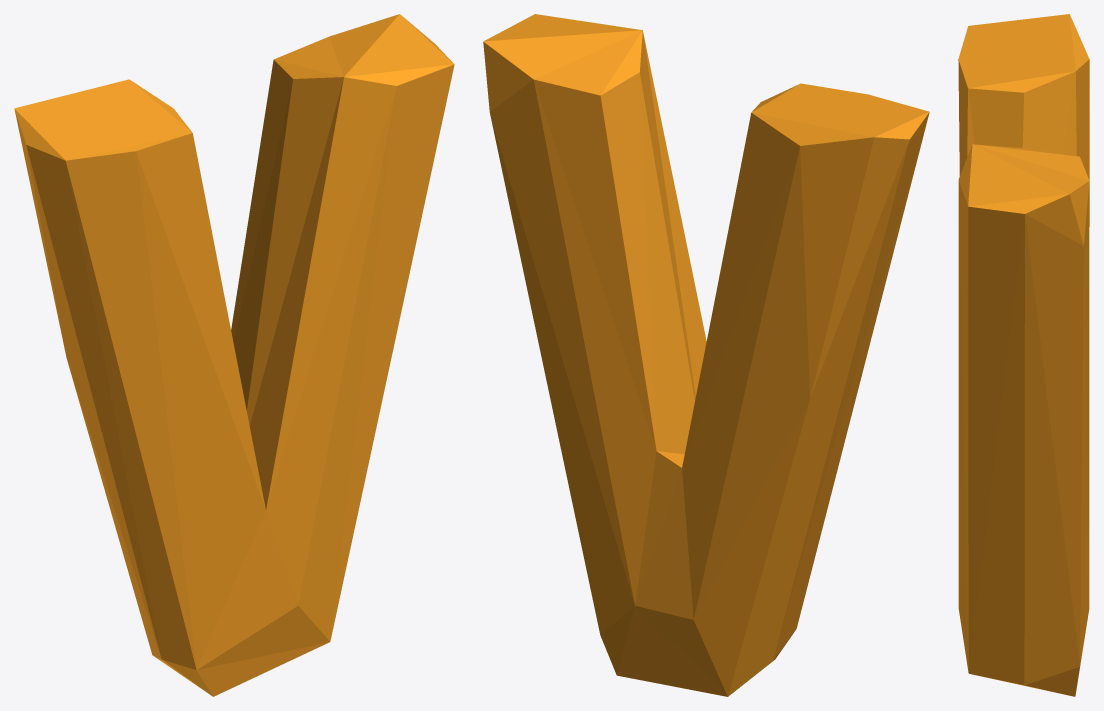
Rendered from SM_Icon_Letter_V_01.fbx.
3 views of the same model, side by side, from view 1: azimuth 30°, elevation 25°; view 2: azimuth 150°, elevation 25°; view 3: azimuth 270°, elevation 25° (orthographic). The views are drawn at different scales.
Parts seen in each view (by area): view 1: SM_Icon_Letter_V_01; view 2: SM_Icon_Letter_V_01; view 3: SM_Icon_Letter_V_01.
Part boxes in pixels (bbox=[...]): SM_Icon_Letter_V_01: bbox=[14, 14, 454, 696]; SM_Icon_Letter_V_01: bbox=[483, 14, 929, 696]; SM_Icon_Letter_V_01: bbox=[958, 14, 1089, 696].
Bounding box in the file's own units: 39.33 × 54.29 × 11.4.
